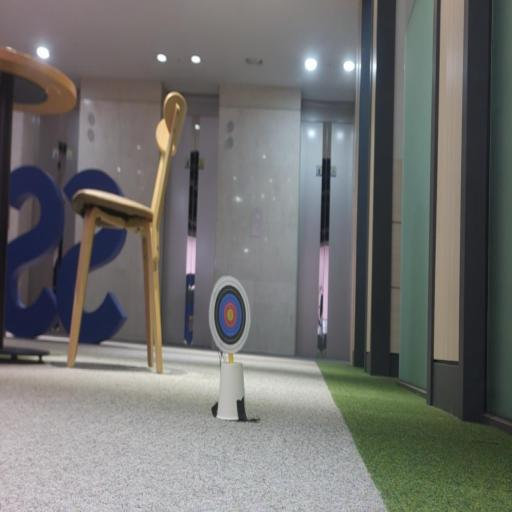target: (209, 276, 250, 354)
